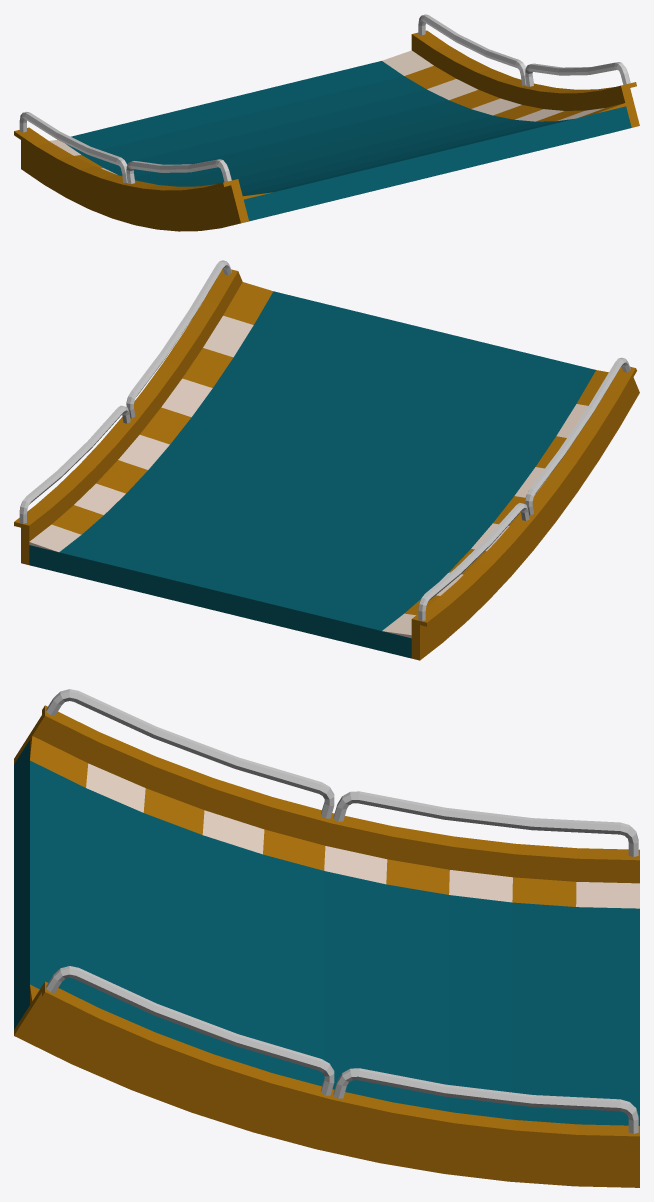
Rendered from ascent-30_s.FBX.
3 views of the same model, one above another, from view 1: azimuth 30°, elevation 25°; view 2: azimuth 150°, elevation 25°; view 3: azimuth 270°, elevation 25° (orthographic). The views are drawn at different scales.
Parts seen in each view (by area): view 1: ascent-30_s, wall_r, wall_l, curbs_l, curbs_r; view 2: ascent-30_s, wall_r, wall_l, curbs_l, curbs_r; view 3: ascent-30_s, wall_l, wall_r, curbs_r.
Part boxes in pixels (x1=…): ascent-30_s: x1=66, y1=61, x2=631, y2=221; wall_r: x1=14, y1=111, x2=248, y2=231; wall_l: x1=411, y1=14, x2=639, y2=127; curbs_l: x1=382, y1=50, x2=625, y2=121; curbs_r: x1=49, y1=139, x2=272, y2=199; ascent-30_s: x1=29, y1=291, x2=595, y2=658; wall_r: x1=411, y1=357, x2=639, y2=660; wall_l: x1=14, y1=260, x2=242, y2=564; curbs_l: x1=29, y1=282, x2=273, y2=552; curbs_r: x1=382, y1=370, x2=608, y2=638; ascent-30_s: x1=14, y1=740, x2=639, y2=1125; wall_l: x1=14, y1=966, x2=639, y2=1187; wall_r: x1=14, y1=689, x2=639, y2=883; curbs_r: x1=30, y1=736, x2=639, y2=908.
Size of what is drawn, in the model's own units: 207 by 74.28 by 191.
